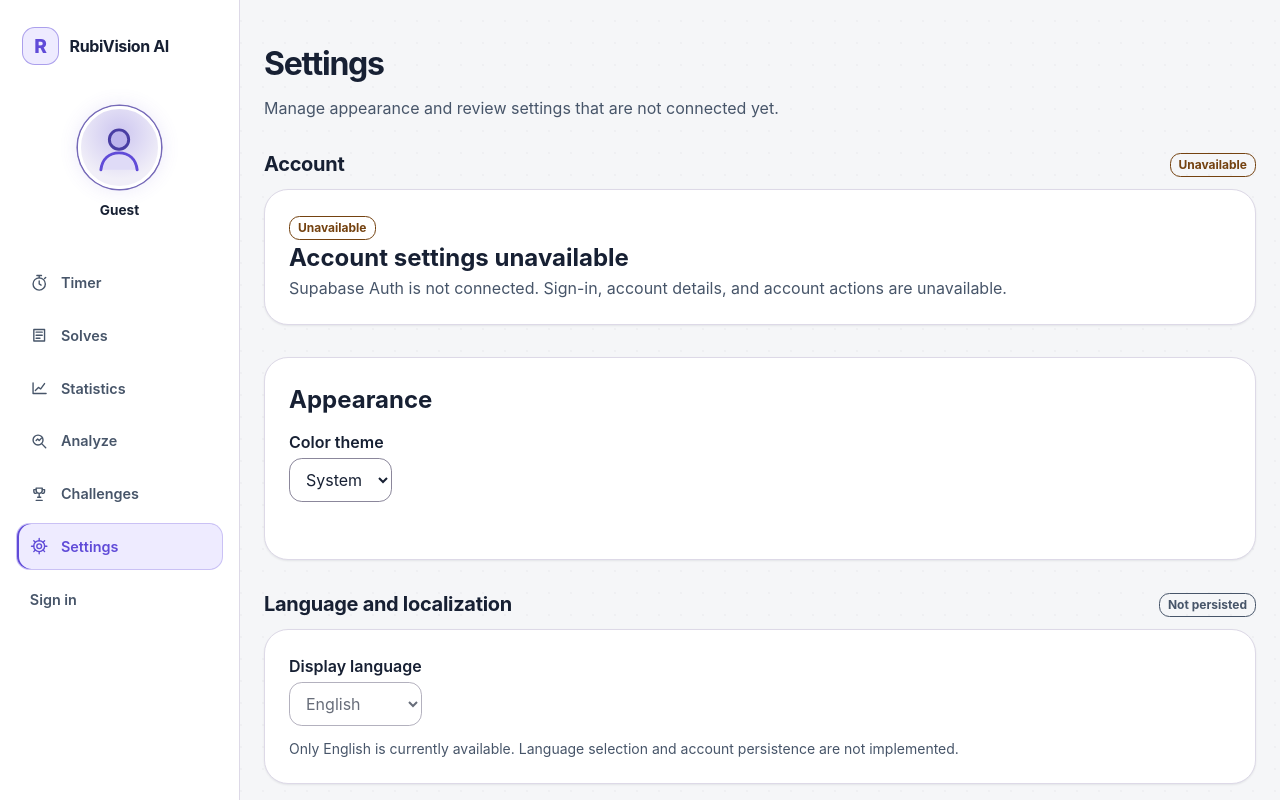
Test: Settings page shell › uses the injected preferences service and reports its save result
The width and height of the screenshot is (1280, 800).
Select "Light" in the dropdown labelled "Color theme" at x=340, y=480, box [289,458,392,502]
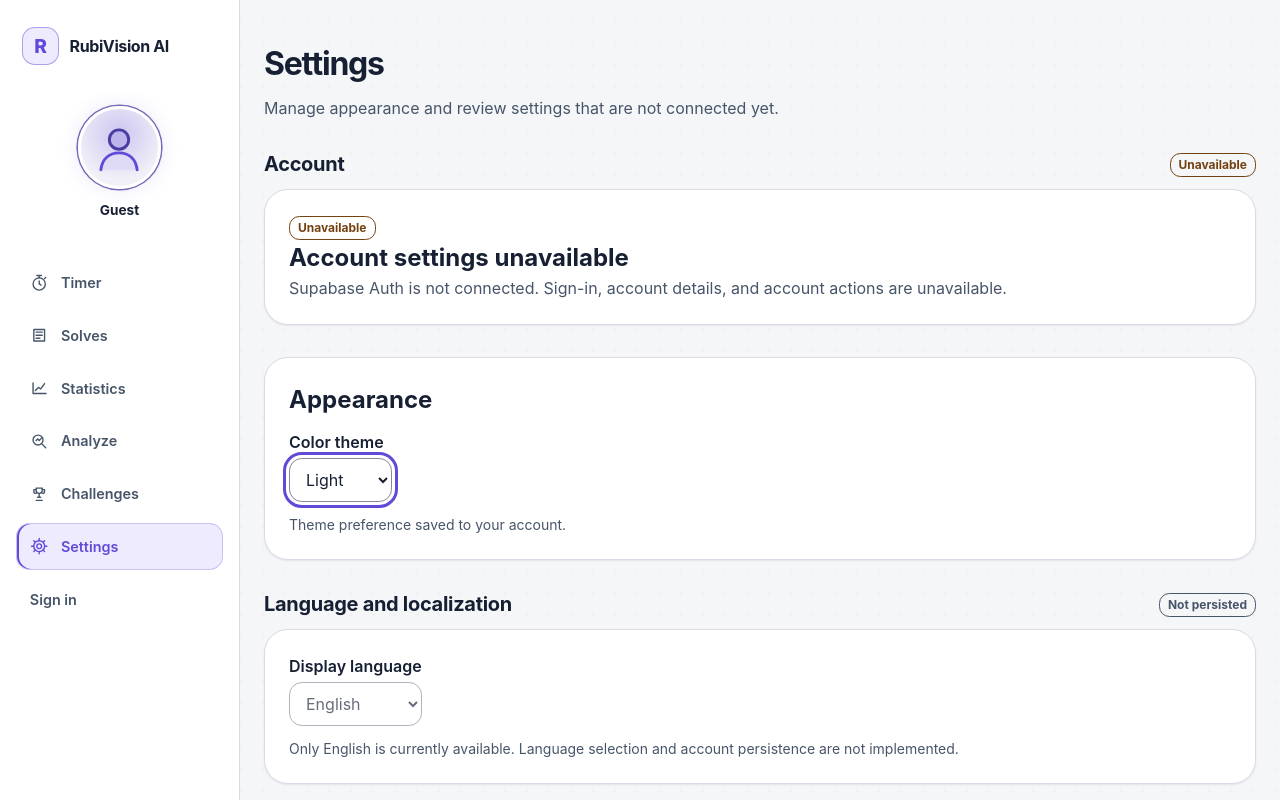
Expected: the text "Theme preference saved to your account." is shown, [289,514,566,535]
